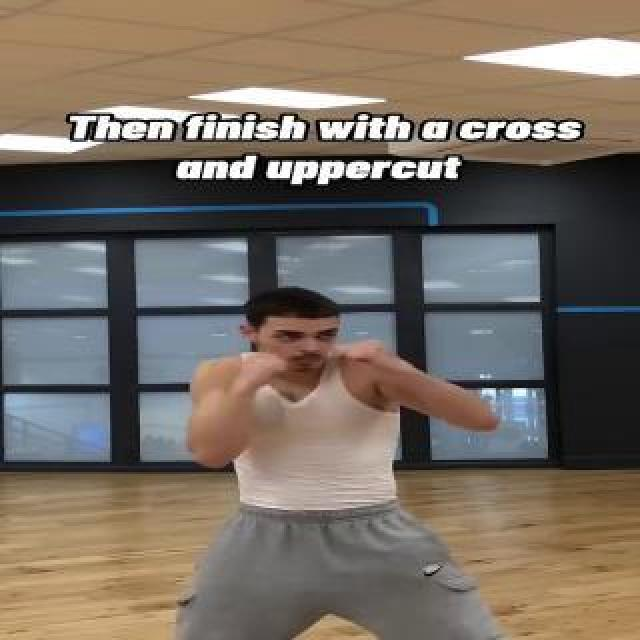fight: (122, 286, 532, 640)
